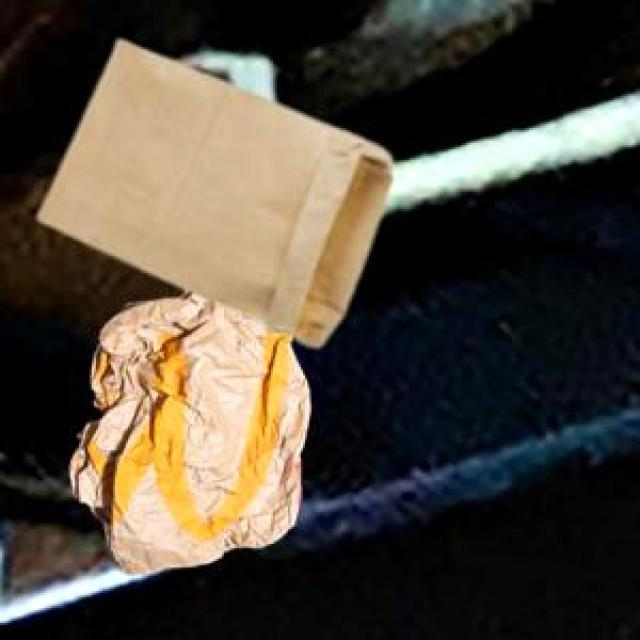Paper_Bag: (36, 38, 390, 342), (67, 284, 306, 570)
